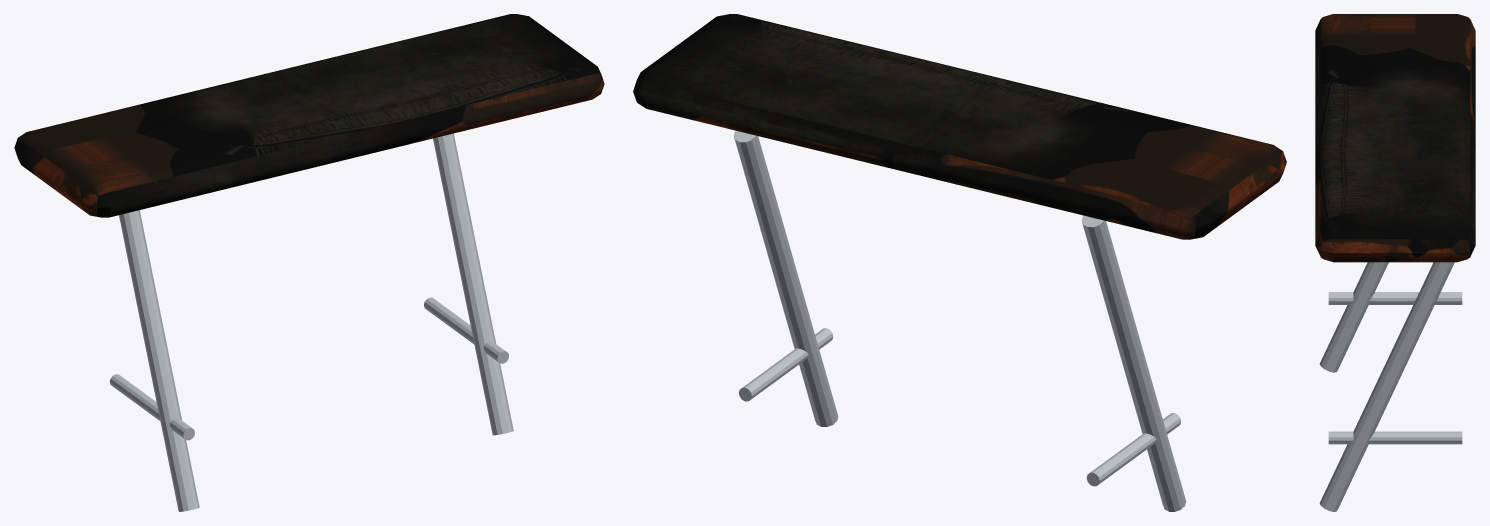
Rendered from ironing_board_blue.glb.
3 renders of one model, left to right at view 1: azimuth 30°, elevation 25°; view 2: azimuth 150°, elevation 25°; view 3: azimuth 270°, elevation 25°, orthographic. The views are drawn at different scales.
Visible parts, largest first — view 1: padded board, folding leg.001, folding leg, cross brace.001, cross brace; view 2: padded board, folding leg, folding leg.001, cross brace.001, cross brace; view 3: padded board, folding leg.001, folding leg, cross brace.001, cross brace.
Boxes of the visible parts, x1,y1,x2,y2 form: padded board: (14,14,604,217); folding leg.001: (433,133,513,435); folding leg: (119,210,199,511); cross brace.001: (424,297,508,363); cross brace: (110,374,194,440); padded board: (633,14,1286,239); folding leg: (1081,215,1186,511); folding leg.001: (733,130,838,426); cross brace.001: (739,328,833,401); cross brace: (1086,413,1180,486); padded board: (1315,14,1475,262); folding leg.001: (1319,262,1454,511); folding leg: (1319,262,1388,372); cross brace.001: (1328,431,1462,444); cross brace: (1328,292,1462,304).
Bounding box in the file's own units: 1.22 × 0.7887 × 0.36.
2 materials, 1 textured.
